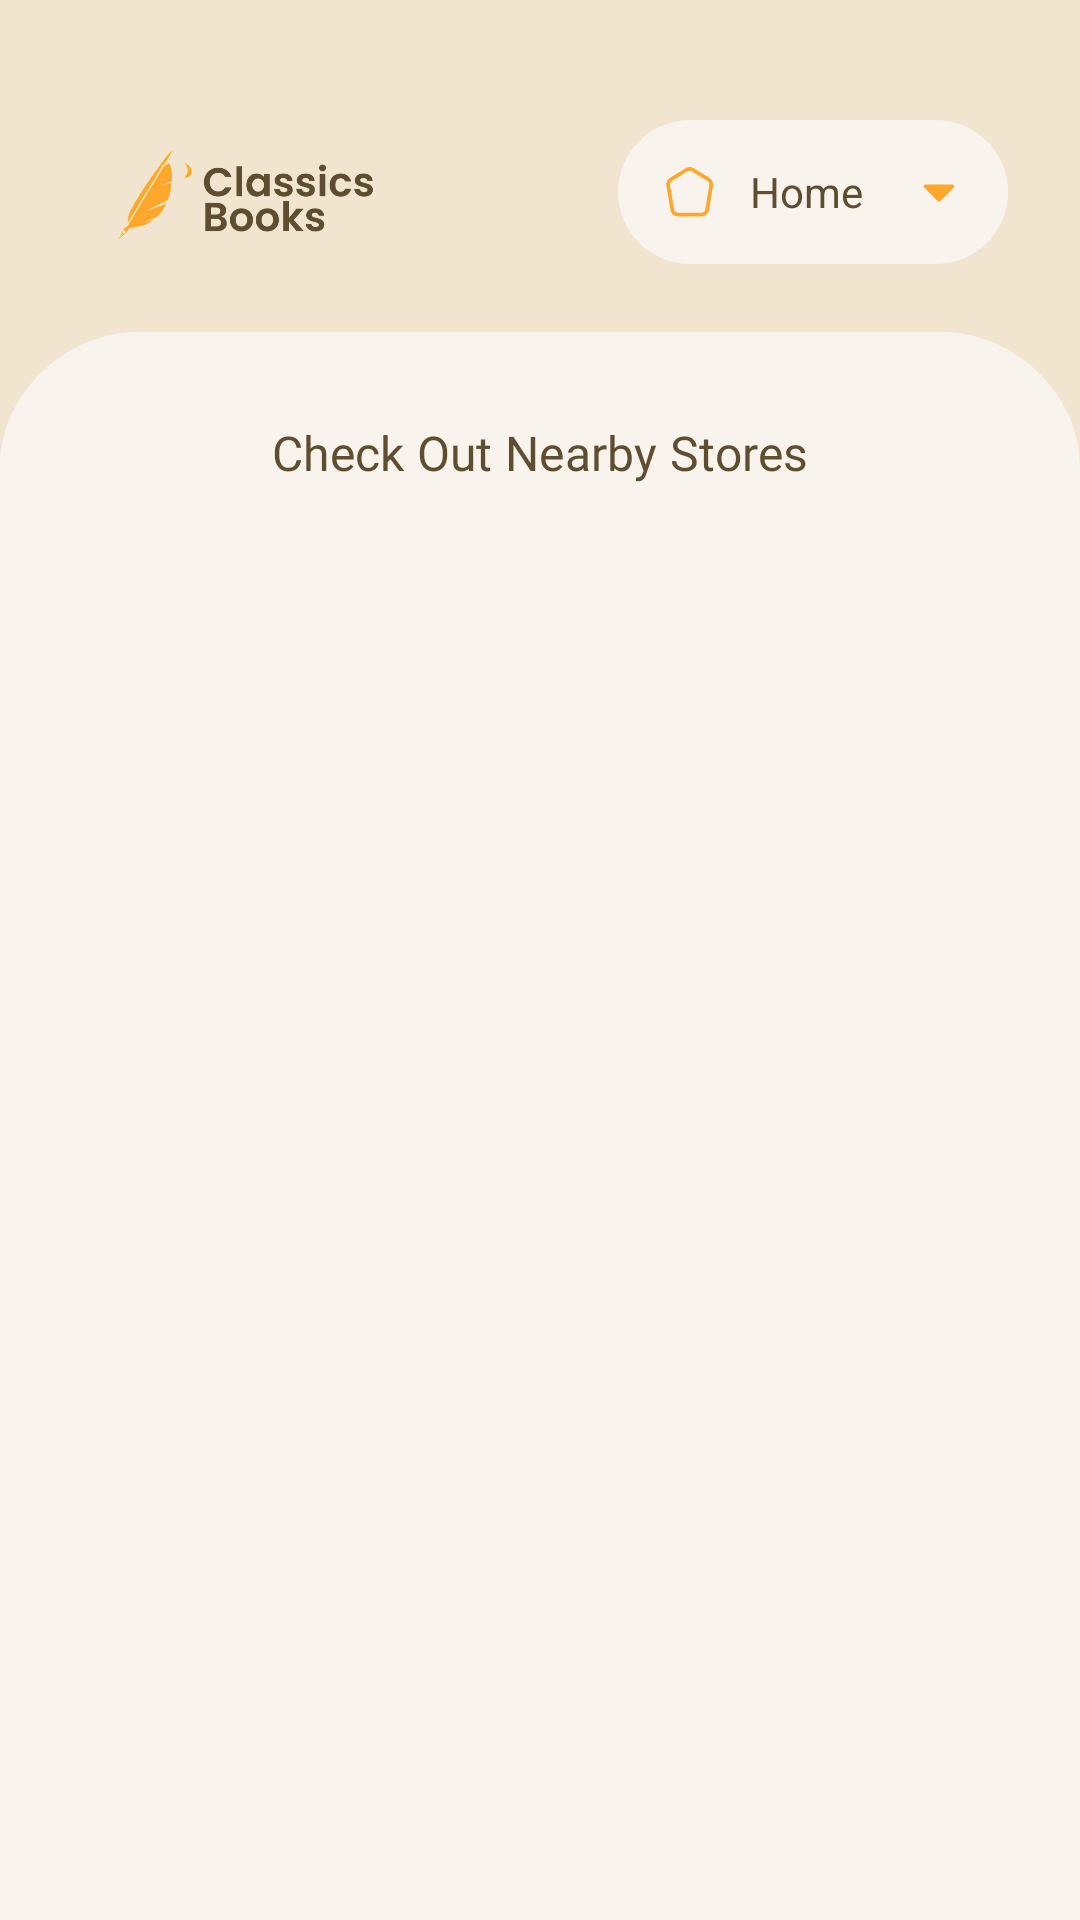

Screen size 1080px x 1920px. Icon name, then its center in pixels as point (x, y):
arrow down: point (939, 193)
